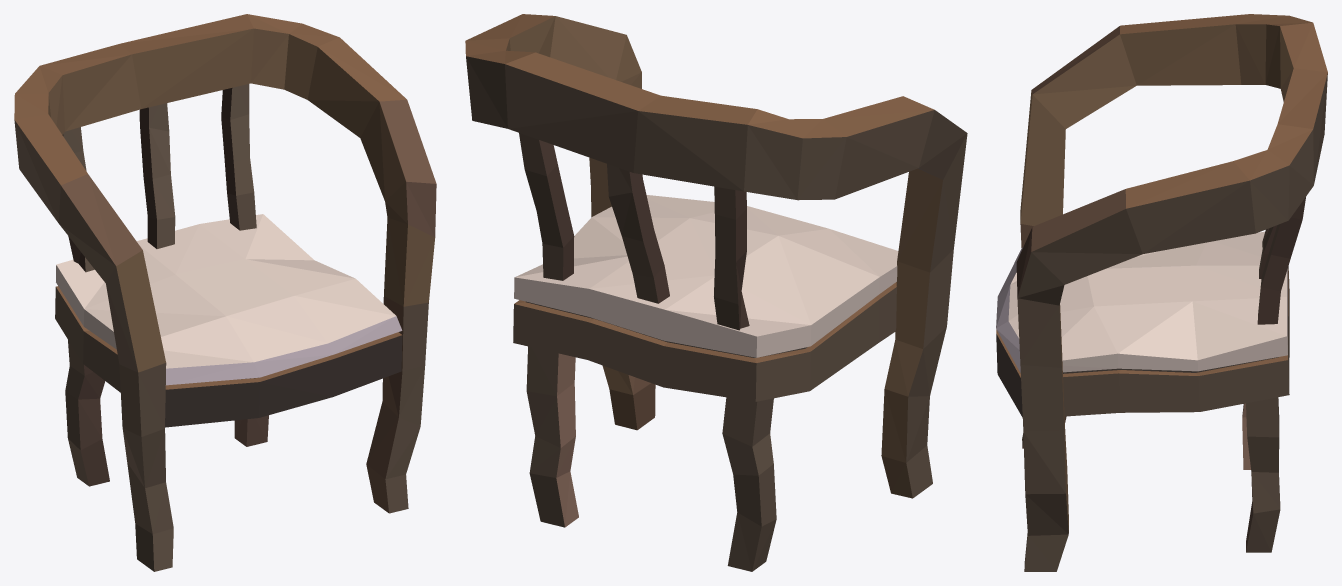
File: chair.fbx
3 views of the same model, side by side, from view 1: azimuth 30°, elevation 25°; view 2: azimuth 150°, elevation 25°; view 3: azimuth 270°, elevation 25° (orthographic). The views are drawn at different scales.
Visible parts, largest first — view 1: chair; view 2: chair; view 3: chair.
Boxes of the visible parts, x1,y1,x2,y2 form: chair: (14, 14, 436, 571); chair: (465, 14, 967, 571); chair: (996, 14, 1327, 571).
Size of the model in its own units: 69.42 by 76.47 by 53.6.
